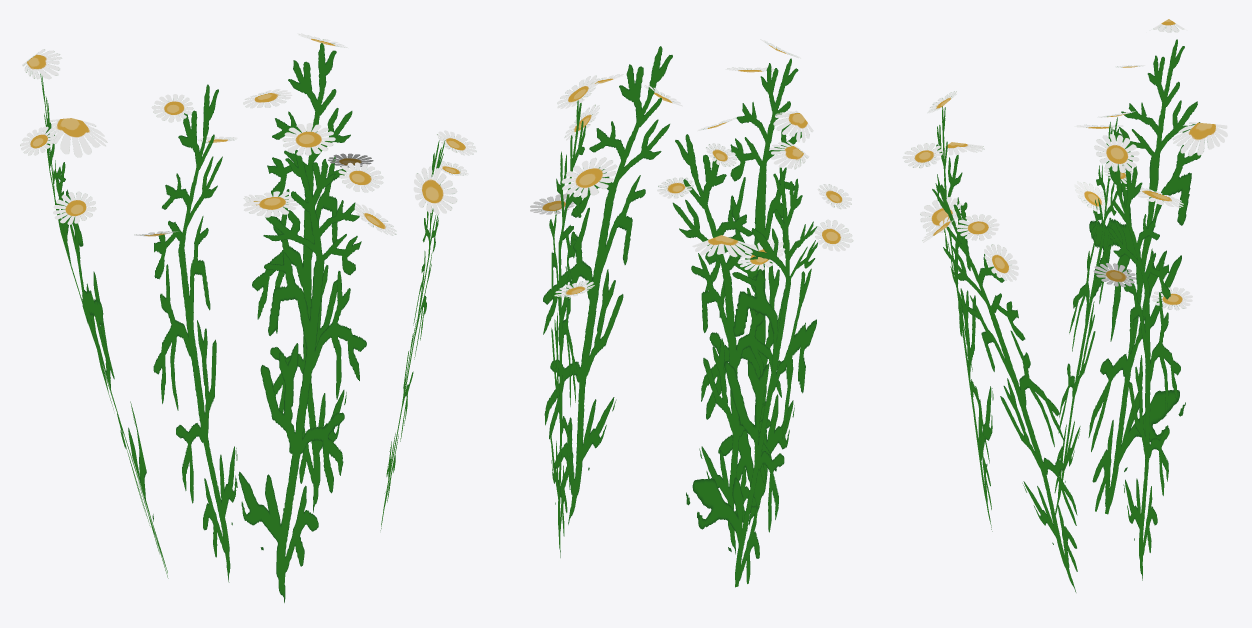
Rendered from PT_Chamomille_02.fbx.
The picture shows the model from 3 angles, left to right: view 1: azimuth 30°, elevation 25°; view 2: azimuth 150°, elevation 25°; view 3: azimuth 270°, elevation 25°; orthographic projection. The views are drawn at different scales.
Visible parts, largest first — view 1: PT_Chamomile_02_LOD0; view 2: PT_Chamomile_02_LOD0; view 3: PT_Chamomile_02_LOD0.
Part boxes in pixels (x1=…): PT_Chamomile_02_LOD0: x1=20, y1=33, x2=476, y2=602; PT_Chamomile_02_LOD0: x1=530, y1=39, x2=853, y2=587; PT_Chamomile_02_LOD0: x1=902, y1=19, x2=1227, y2=592.
Size of what is drawn, in the model's own units: 40.54 by 53.05 by 35.76.
